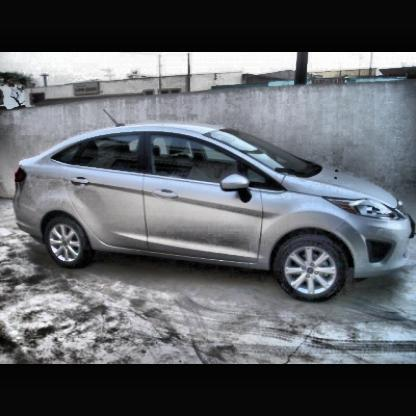Ford Fiesta Sedan 2012: (17, 124, 413, 304)
